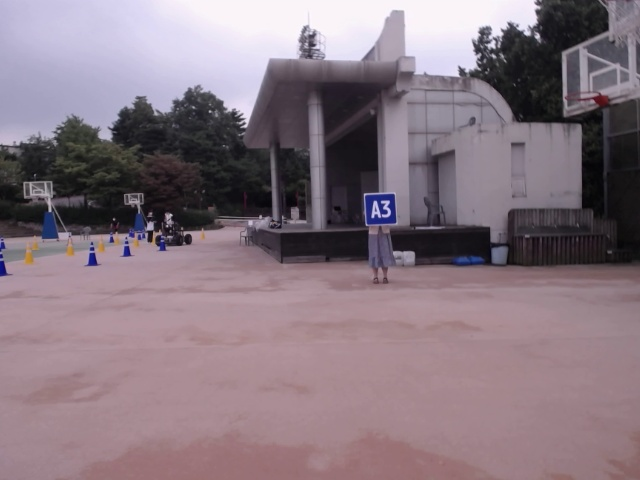delivery_a3: (364, 194, 398, 225)
